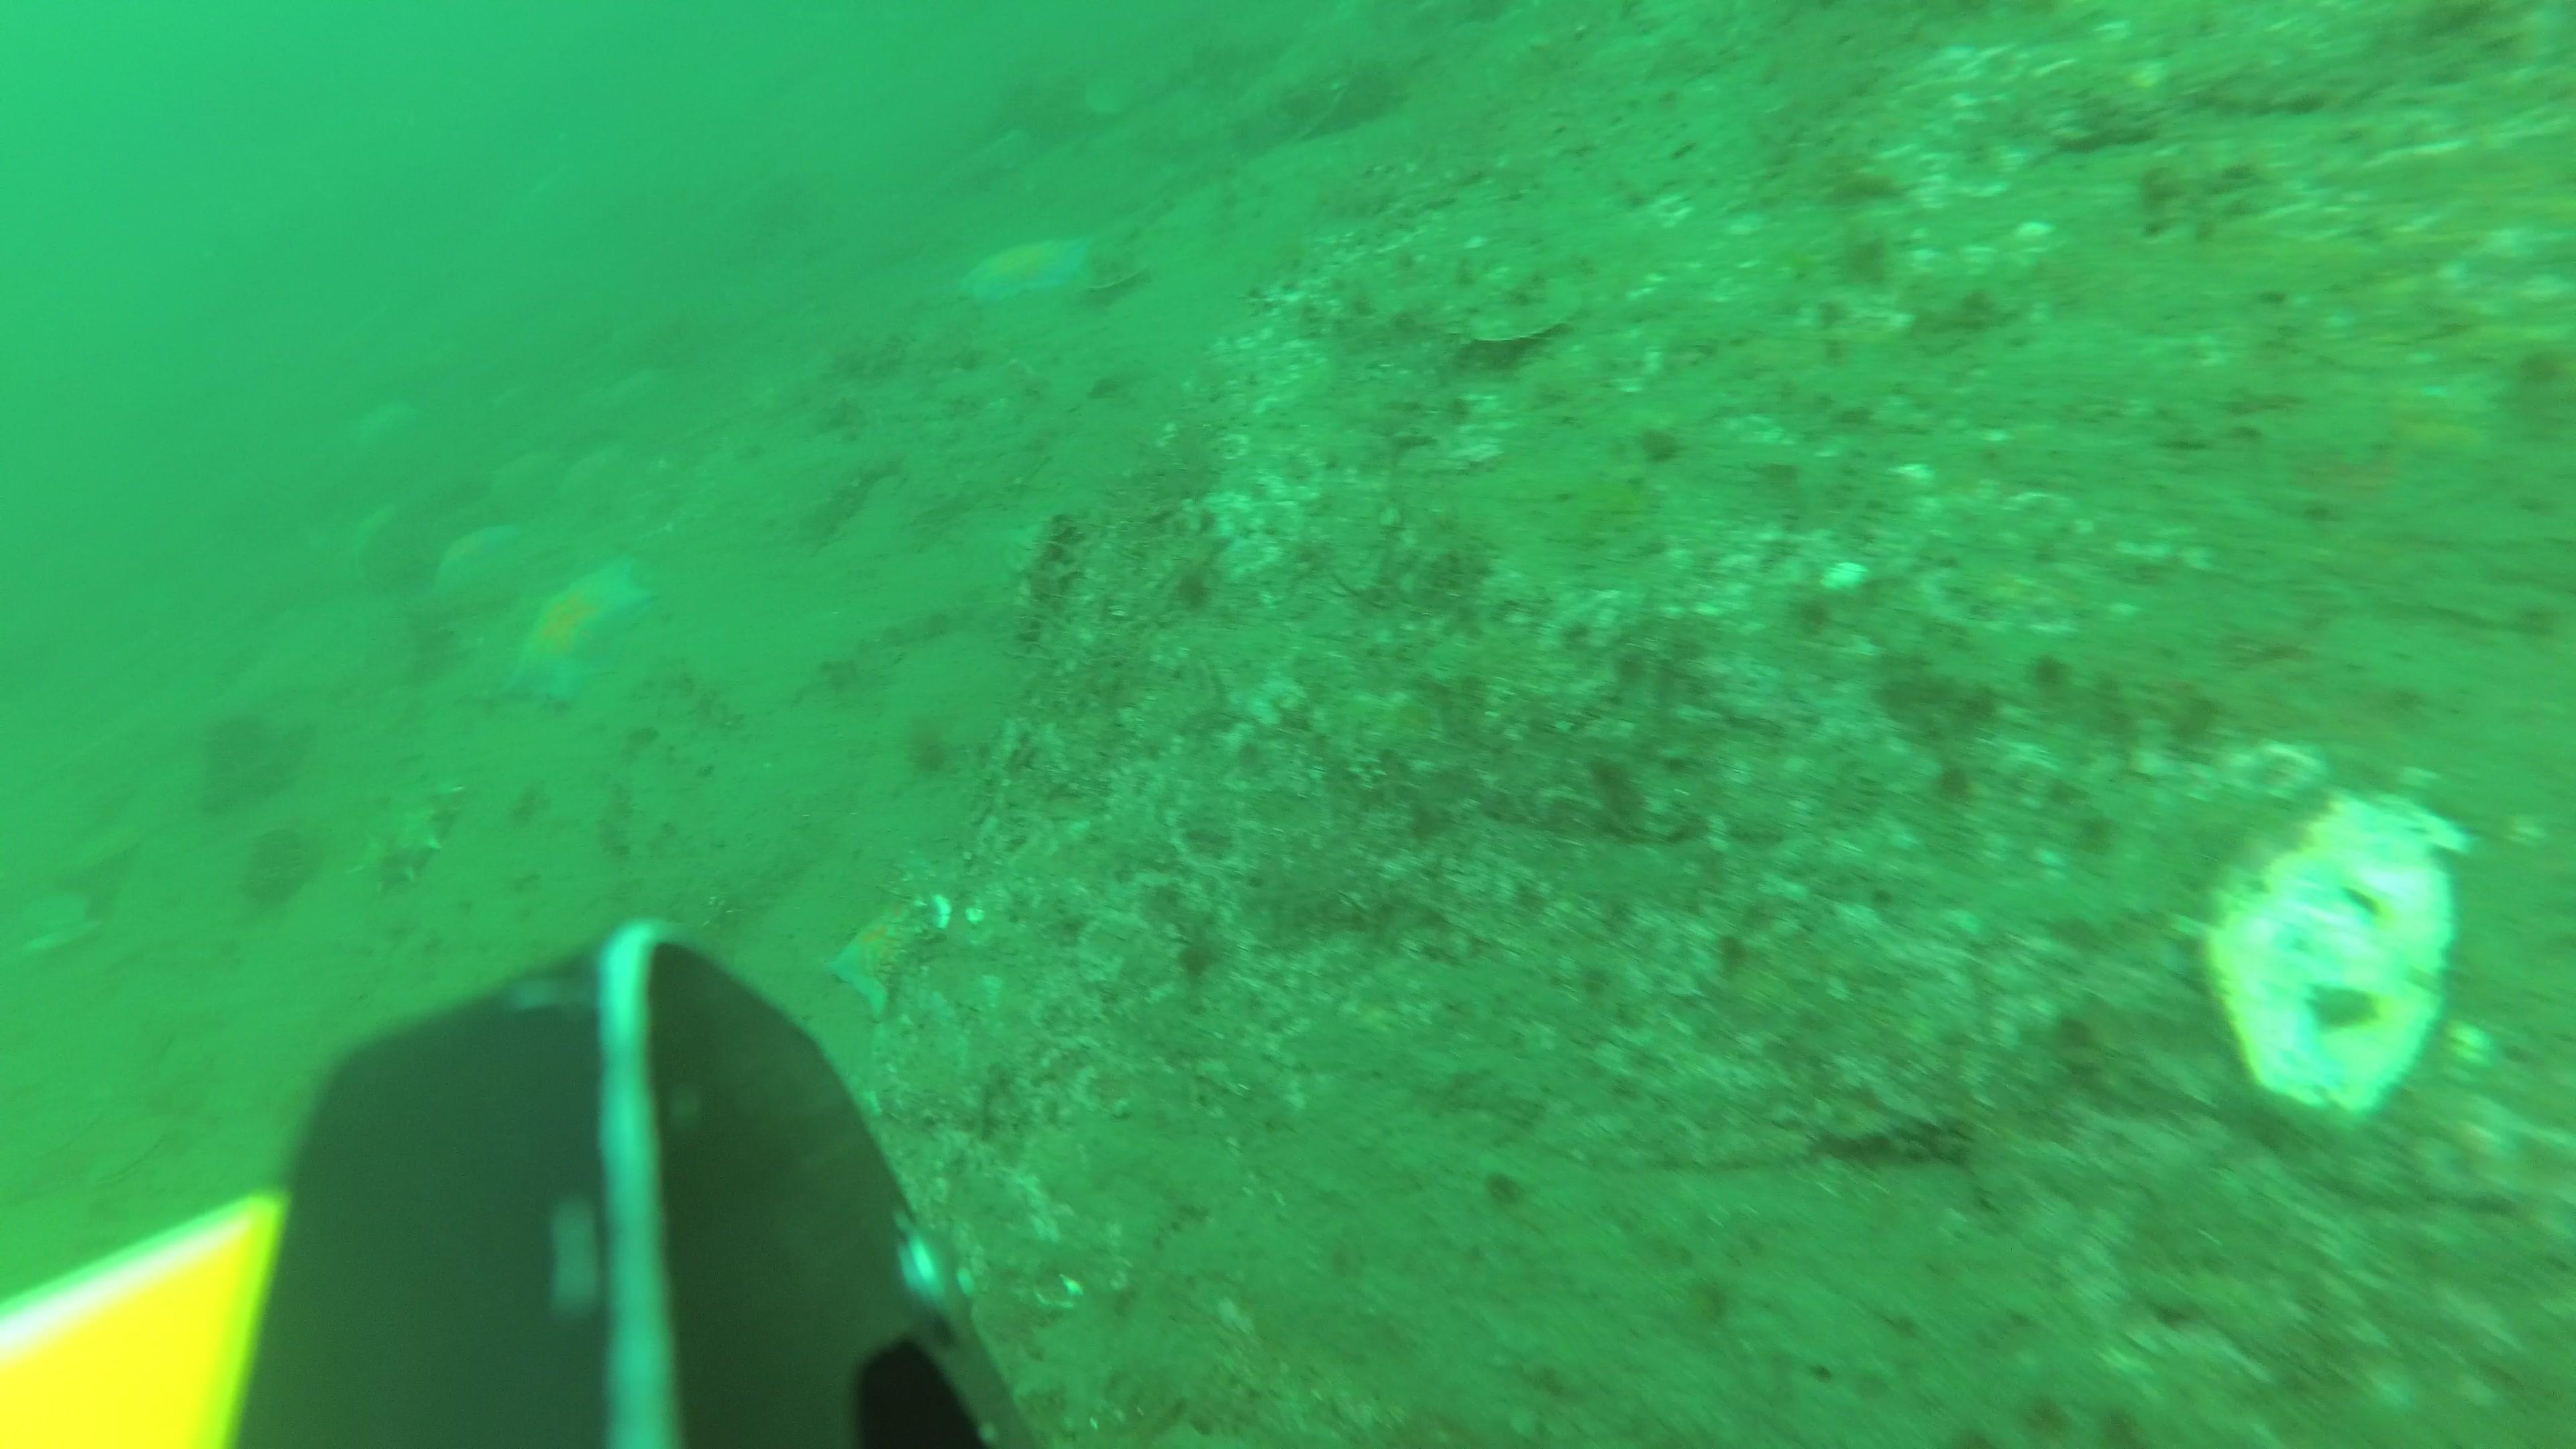holothurian: (350, 780, 465, 895)
starfish: (501, 548, 649, 711), (833, 904, 961, 1031), (955, 228, 1102, 308), (428, 520, 517, 605)
